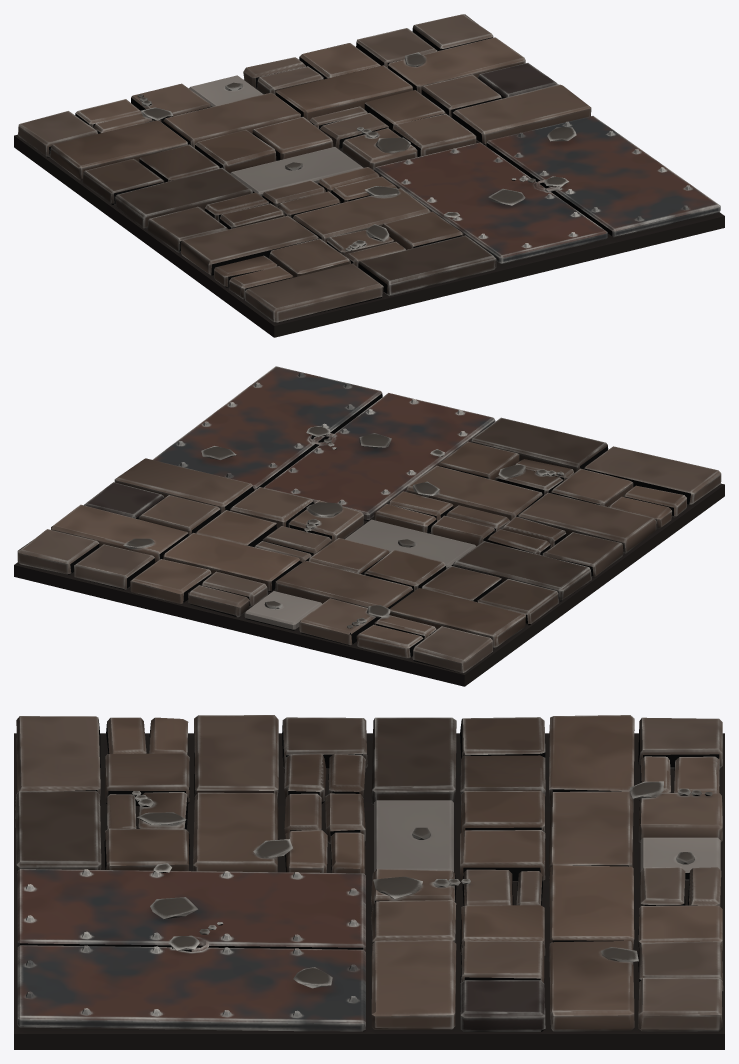
File: foundry_floor_tile_worn.glb
3 renders of one model, top to bottom at view 1: azimuth 30°, elevation 25°; view 2: azimuth 150°, elevation 25°; view 3: azimuth 270°, elevation 25°, orthographic. The views are drawn at different scales.
Parts seen in each view (by area): view 1: foundry_floor_tile_worn; view 2: foundry_floor_tile_worn; view 3: foundry_floor_tile_worn.
Boxes of the visible parts, x1,y1,x2,y2 form: foundry_floor_tile_worn: (14,14,724,337); foundry_floor_tile_worn: (14,366,724,686); foundry_floor_tile_worn: (14,715,724,1049).
Size of the model in its own units: 4 by 0.2466 by 4.
1 material, 1 textured.
